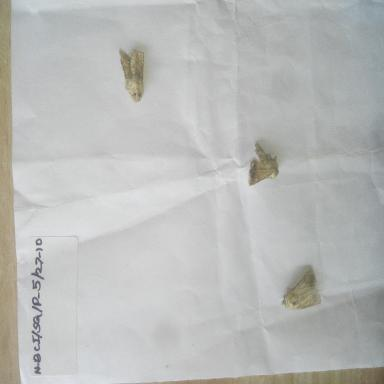abw: (113, 42, 153, 106), (278, 264, 324, 315), (240, 139, 282, 190)
